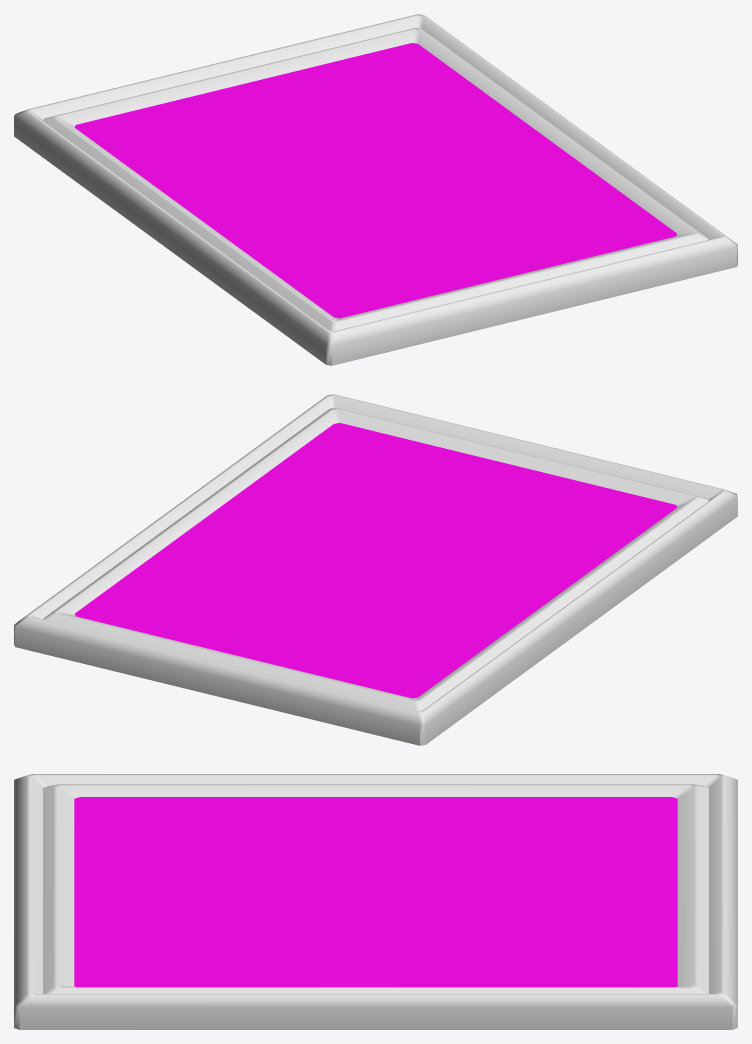
Rendered from PaintingC.fbx.
The picture shows the model from 3 angles, top to bottom: view 1: azimuth 30°, elevation 25°; view 2: azimuth 150°, elevation 25°; view 3: azimuth 270°, elevation 25°; orthographic projection. The views are drawn at different scales.
Parts seen in each view (by area): view 1: PaintingC; view 2: PaintingC; view 3: PaintingC.
Boxes of the visible parts, x1,y1,x2,y2 form: PaintingC: (14, 14, 737, 365); PaintingC: (14, 394, 737, 745); PaintingC: (14, 774, 737, 1029).
Bounding box in the file's own units: 53.98 × 3.36 × 71.97.
